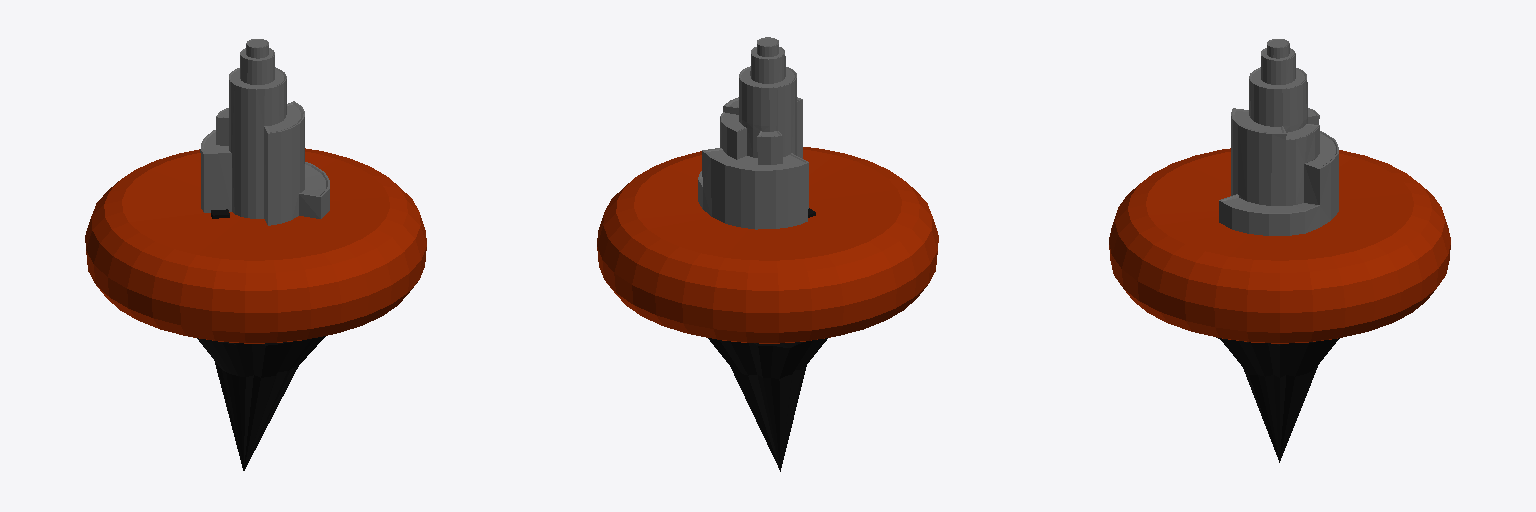
File: TowerHopefully.obj
3 views of the same model, side by side, from view 1: azimuth 30°, elevation 25°; view 2: azimuth 150°, elevation 25°; view 3: azimuth 270°, elevation 25° (orthographic).
Visible parts, largest first — view 1: Collision_Circle.001; view 2: Collision_Circle.001; view 3: Collision_Circle.001.
Boxes of the visible parts, x1,y1,x2,y2 form: Collision_Circle.001: [85, 39, 426, 470]; Collision_Circle.001: [597, 37, 938, 471]; Collision_Circle.001: [1109, 39, 1450, 462].
Bounding box in the file's own units: 14829 × 20335 × 14829.